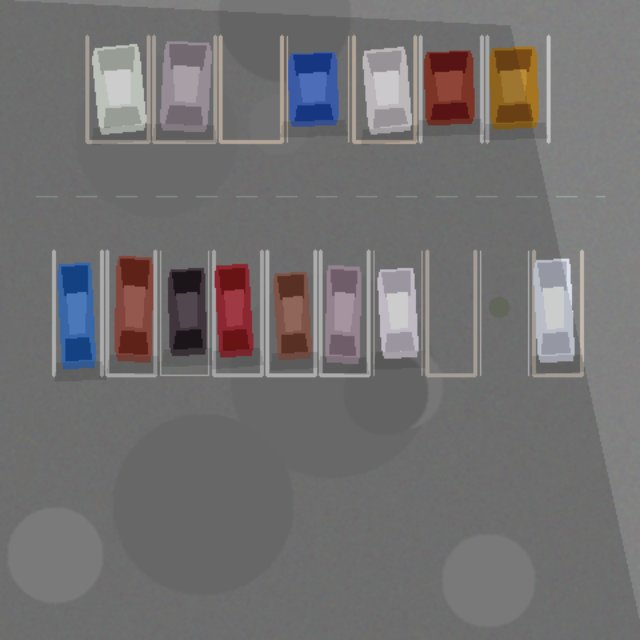space-empty: (220, 36, 281, 141), (427, 251, 475, 375), (480, 251, 528, 375)
space-occupied: (153, 36, 215, 141), (353, 36, 415, 141), (87, 36, 148, 141), (287, 36, 348, 141), (420, 36, 481, 141), (487, 36, 548, 141), (53, 251, 101, 375), (107, 251, 155, 375), (160, 251, 208, 375), (213, 251, 261, 375), (267, 251, 315, 375), (320, 251, 368, 375), (373, 251, 421, 375), (533, 251, 581, 375)
